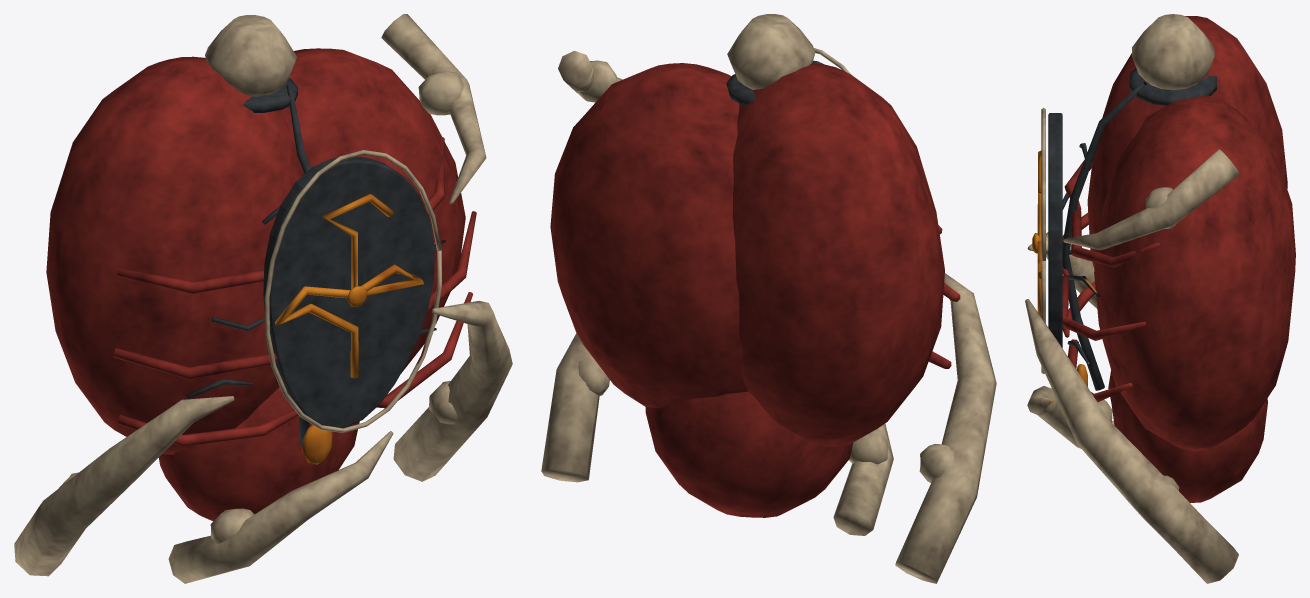
The model's file is HealthRelicV18_14.fbx.
3 views of the same model, side by side, from view 1: azimuth 30°, elevation 25°; view 2: azimuth 150°, elevation 25°; view 3: azimuth 270°, elevation 25° (orthographic). The views are drawn at different scales.
Visible parts, largest first — view 1: HealthRelicV18_14; view 2: HealthRelicV18_14; view 3: HealthRelicV18_14.
Part boxes in pixels (x1=…): HealthRelicV18_14: x1=14, y1=14, x2=512, y2=583; HealthRelicV18_14: x1=541, y1=14, x2=996, y2=583; HealthRelicV18_14: x1=1025, y1=14, x2=1295, y2=583.
Size of the model in its own units: 0.198 by 0.2276 by 0.1151.
Materials: 4 (4 with a texture image).
